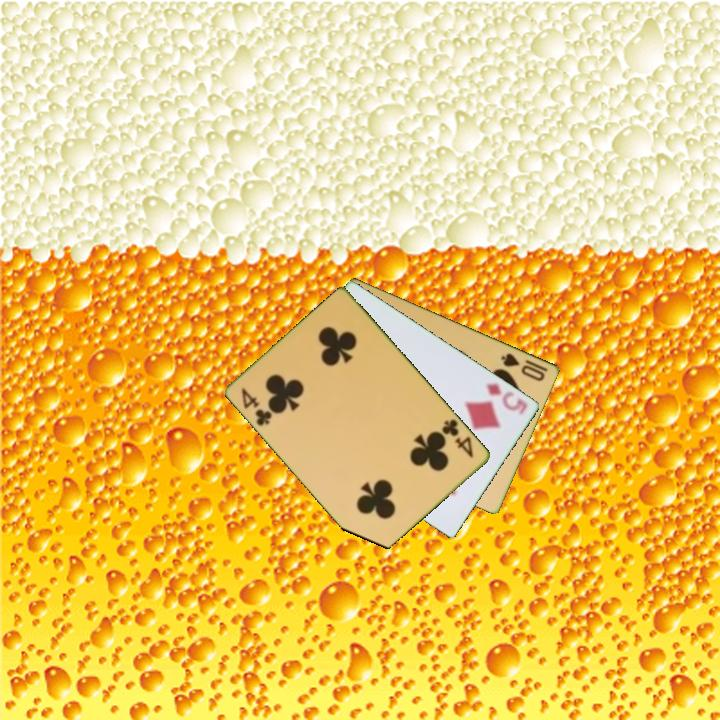10s: (498, 349, 551, 384)
4c: (439, 415, 477, 461), (238, 384, 275, 429)
5d: (483, 379, 531, 417)
